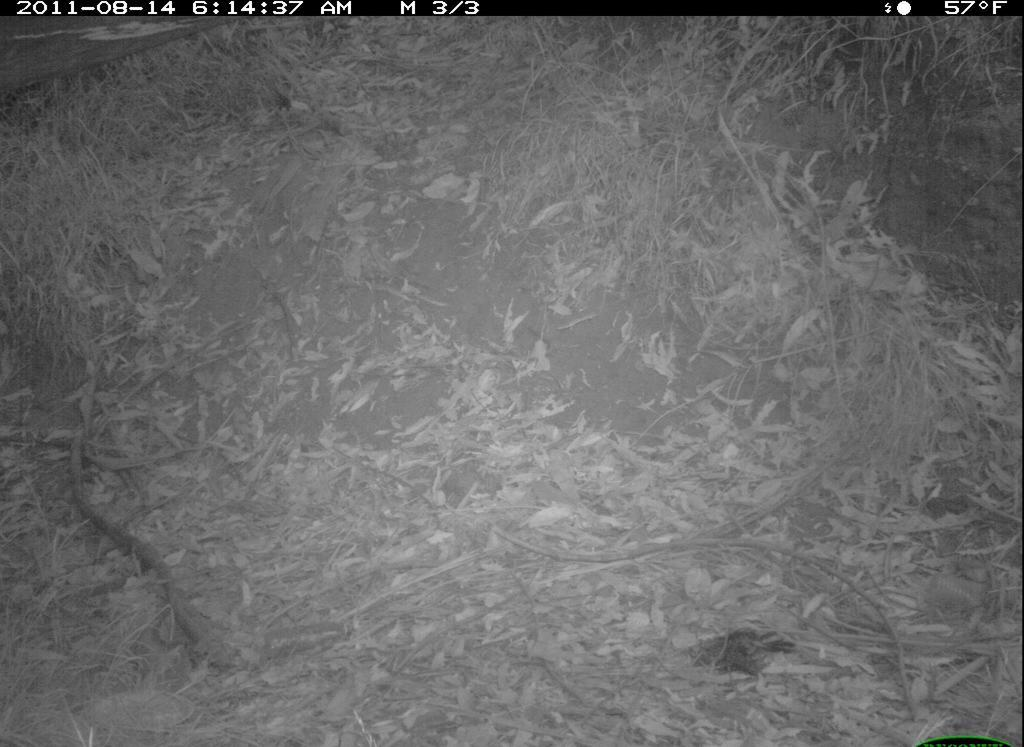dog: (656, 630, 797, 676)
